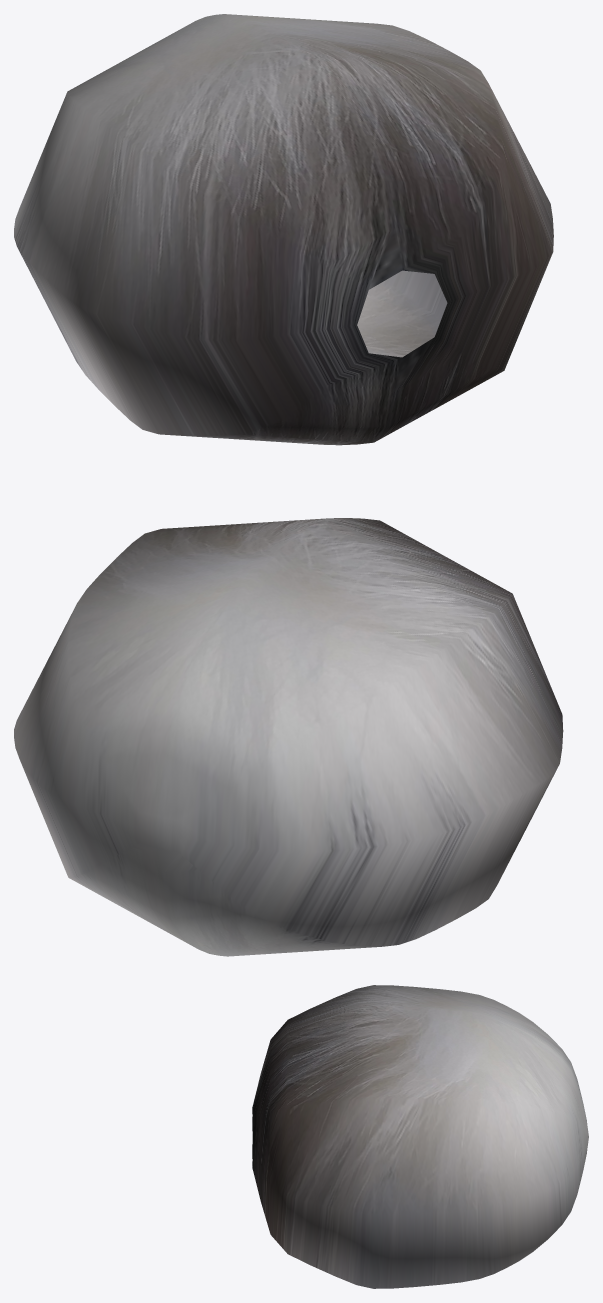
Rendered from WorldItem_BunnyTail.fbx.
3 views of the same model, one above another, from view 1: azimuth 30°, elevation 25°; view 2: azimuth 150°, elevation 25°; view 3: azimuth 270°, elevation 25° (orthographic). The views are drawn at different scales.
Parts seen in each view (by area): view 1: Cube; view 2: Cube; view 3: Cube.
Part boxes in pixels (<box>): Cube: <box>14,14,553,445</box>; Cube: <box>14,518,563,956</box>; Cube: <box>252,985,588,1288</box>.
Bounding box in the file's own units: 3.12 × 2.44 × 4.87.
